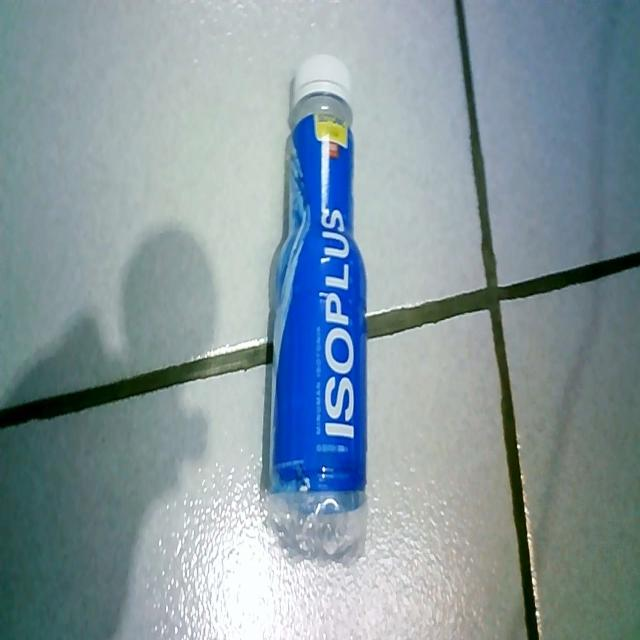botol: (262, 39, 377, 579)
